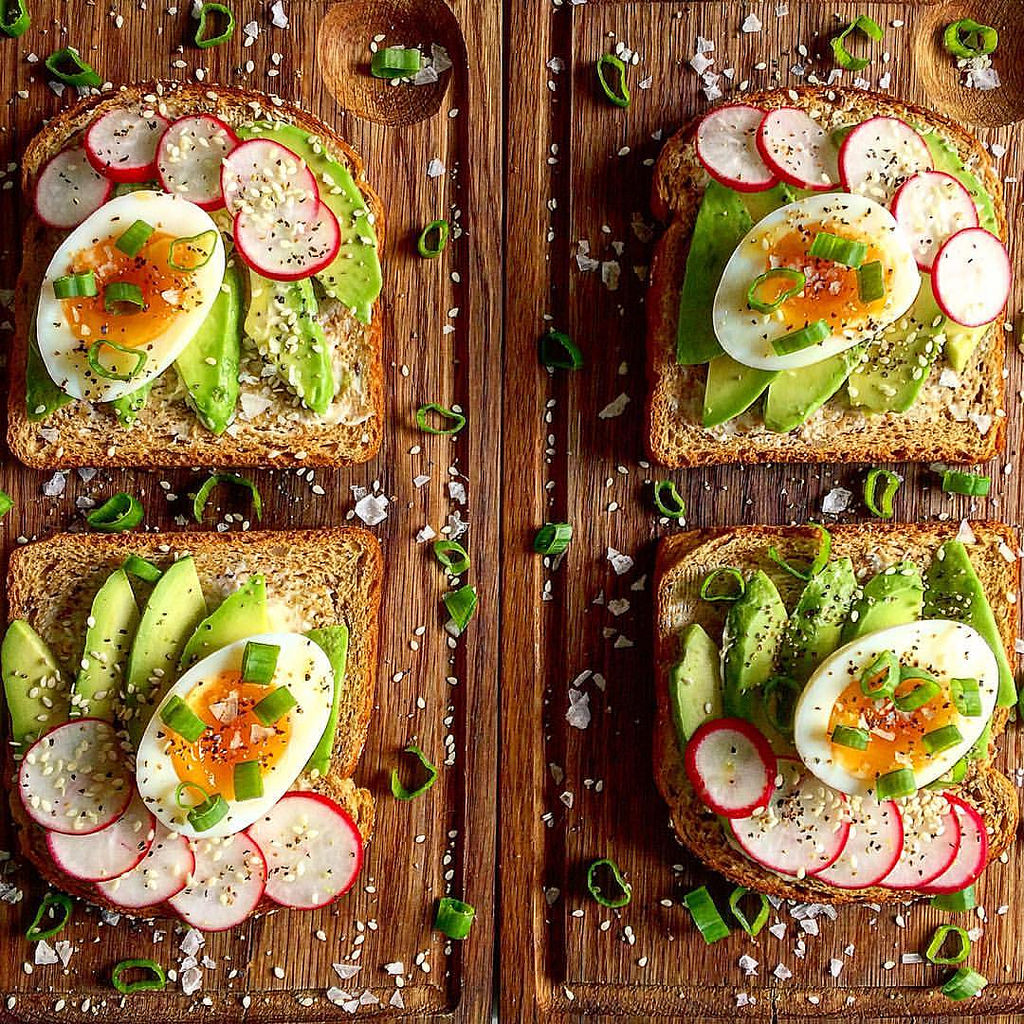fried egg: (809, 619, 993, 804), (722, 204, 917, 353), (60, 207, 214, 394), (163, 660, 306, 817)
slice of bread: (627, 396, 1006, 468)
